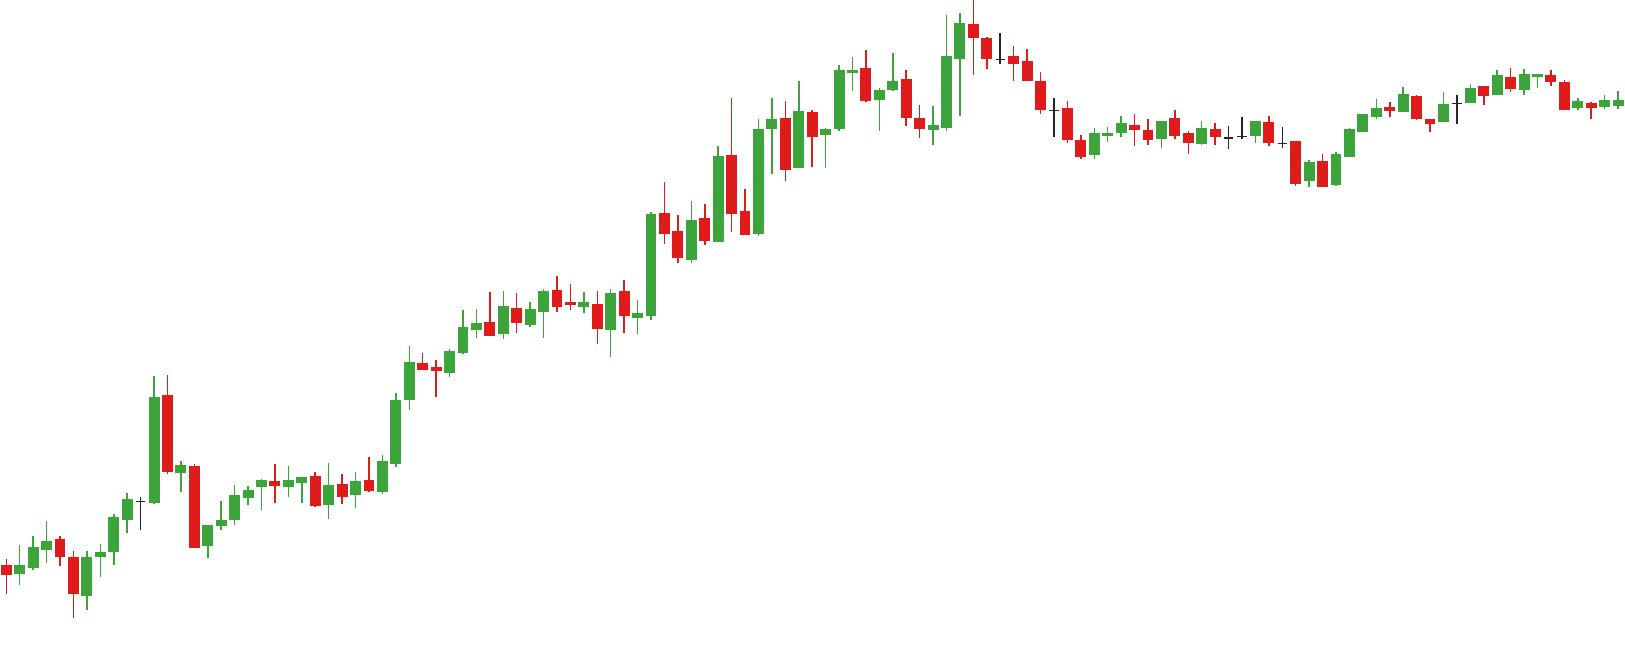sell: (847, 4, 995, 111)
